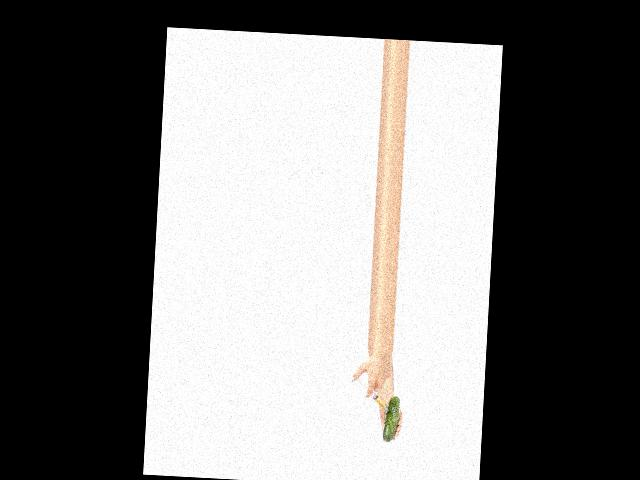cucumber: (382, 396, 400, 443)
